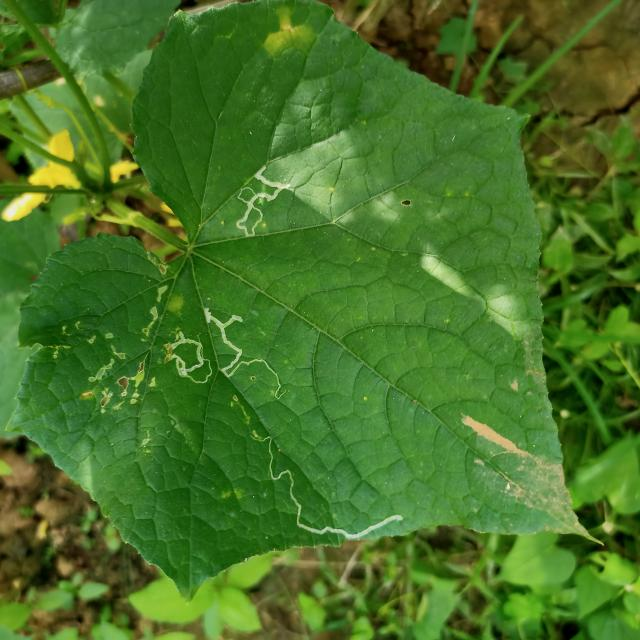disease_cucumber: (266, 3, 308, 56)
